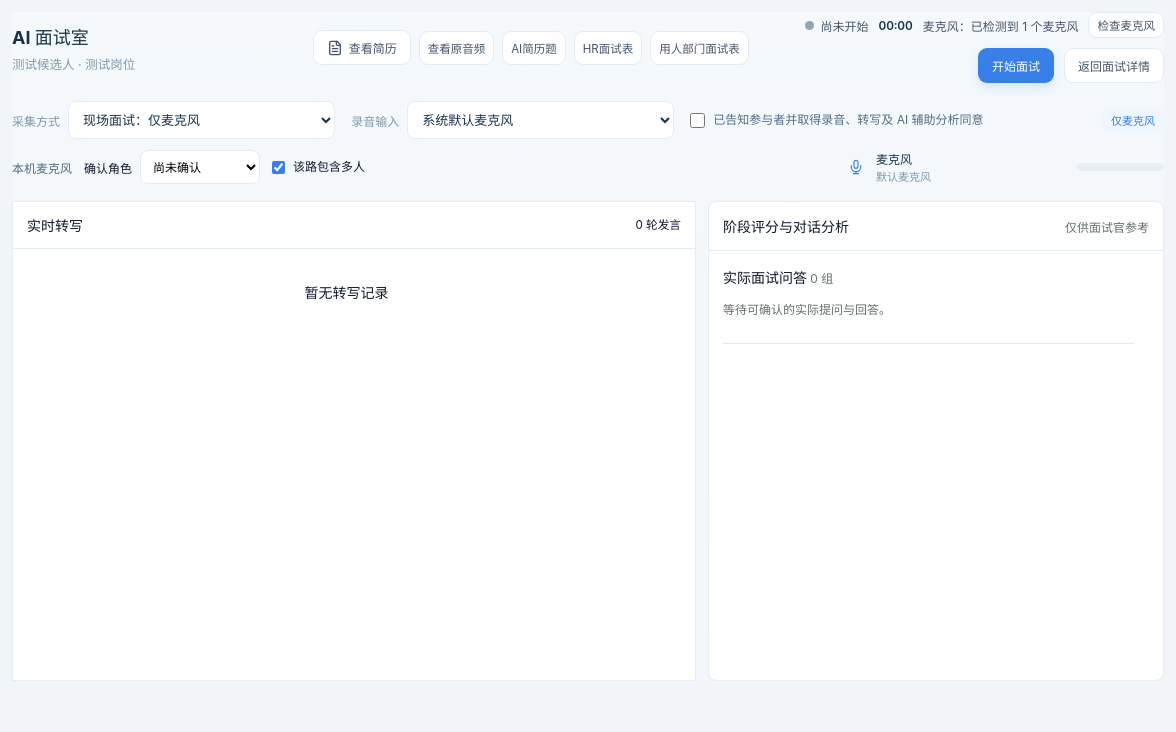
live interview meeting audio › keeps the audio controls compact without persistent instructions in either mode
Expected: the text with class "audio-mode-badge" reads "仅麦克风", [1111,114,1155,128]
Expected: the element with class "transcript-panel" is shown, [12,201,696,681]
Select "线上面试：麦克风 + 会议声音" in the dropdown labelled "采集方式" at [202, 120], box [68,101,335,139]
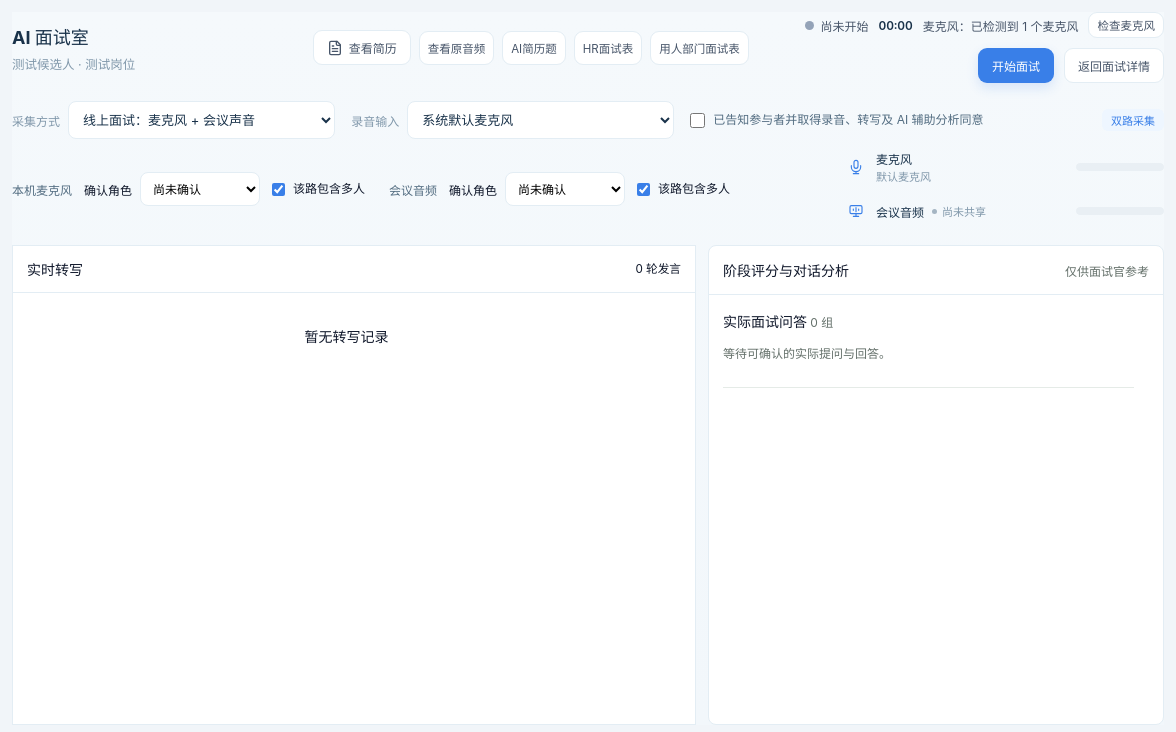
Expected: the button "开始面试" is disabled, [978,48,1054,83]
Expected: the number of elements with class "audio-source" is 2, [844,149,1164,185]; [848,203,1164,220]
